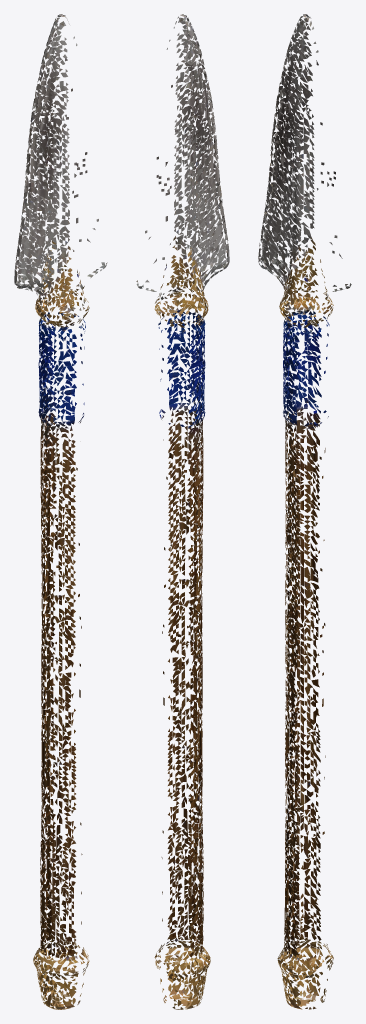
The model's file is w_spear.glb.
3 views of the same model, side by side, from view 1: azimuth 30°, elevation 25°; view 2: azimuth 210°, elevation 25°; view 3: azimuth 330°, elevation 25° (orthographic).
Parts seen in each view (by area): view 1: shape_clean_textured; view 2: shape_clean_textured; view 3: shape_clean_textured.
Part boxes in pixels (x1=…): shape_clean_textured: x1=14, y1=14, x2=107, y2=1009; shape_clean_textured: x1=136, y1=14, x2=229, y2=1009; shape_clean_textured: x1=258, y1=14, x2=351, y2=1009.
Size of the model in its own units: 0.1928 by 1.99 by 0.1026.
1 material, 1 textured.
